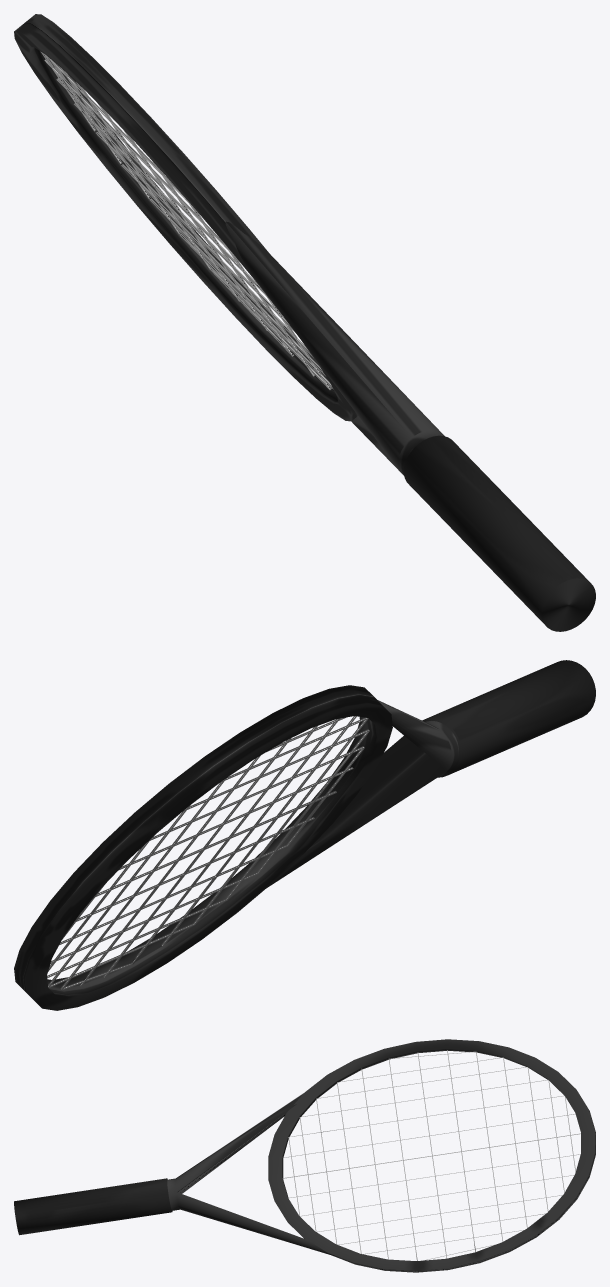
File: raquete.fbx
3 views of the same model, one above another, from view 1: azimuth 30°, elevation 25°; view 2: azimuth 150°, elevation 25°; view 3: azimuth 270°, elevation 25° (orthographic). The views are drawn at different scales.
Visible parts, largest first — view 1: Raquete; view 2: Raquete; view 3: Raquete.
Part boxes in pixels (x1=…): Raquete: x1=14, y1=14, x2=595, y2=631; Raquete: x1=14, y1=660, x2=595, y2=1010; Raquete: x1=14, y1=1039, x2=595, y2=1272.
Bounding box in the file's own units: 2.99 × 4.5 × 12.67.
